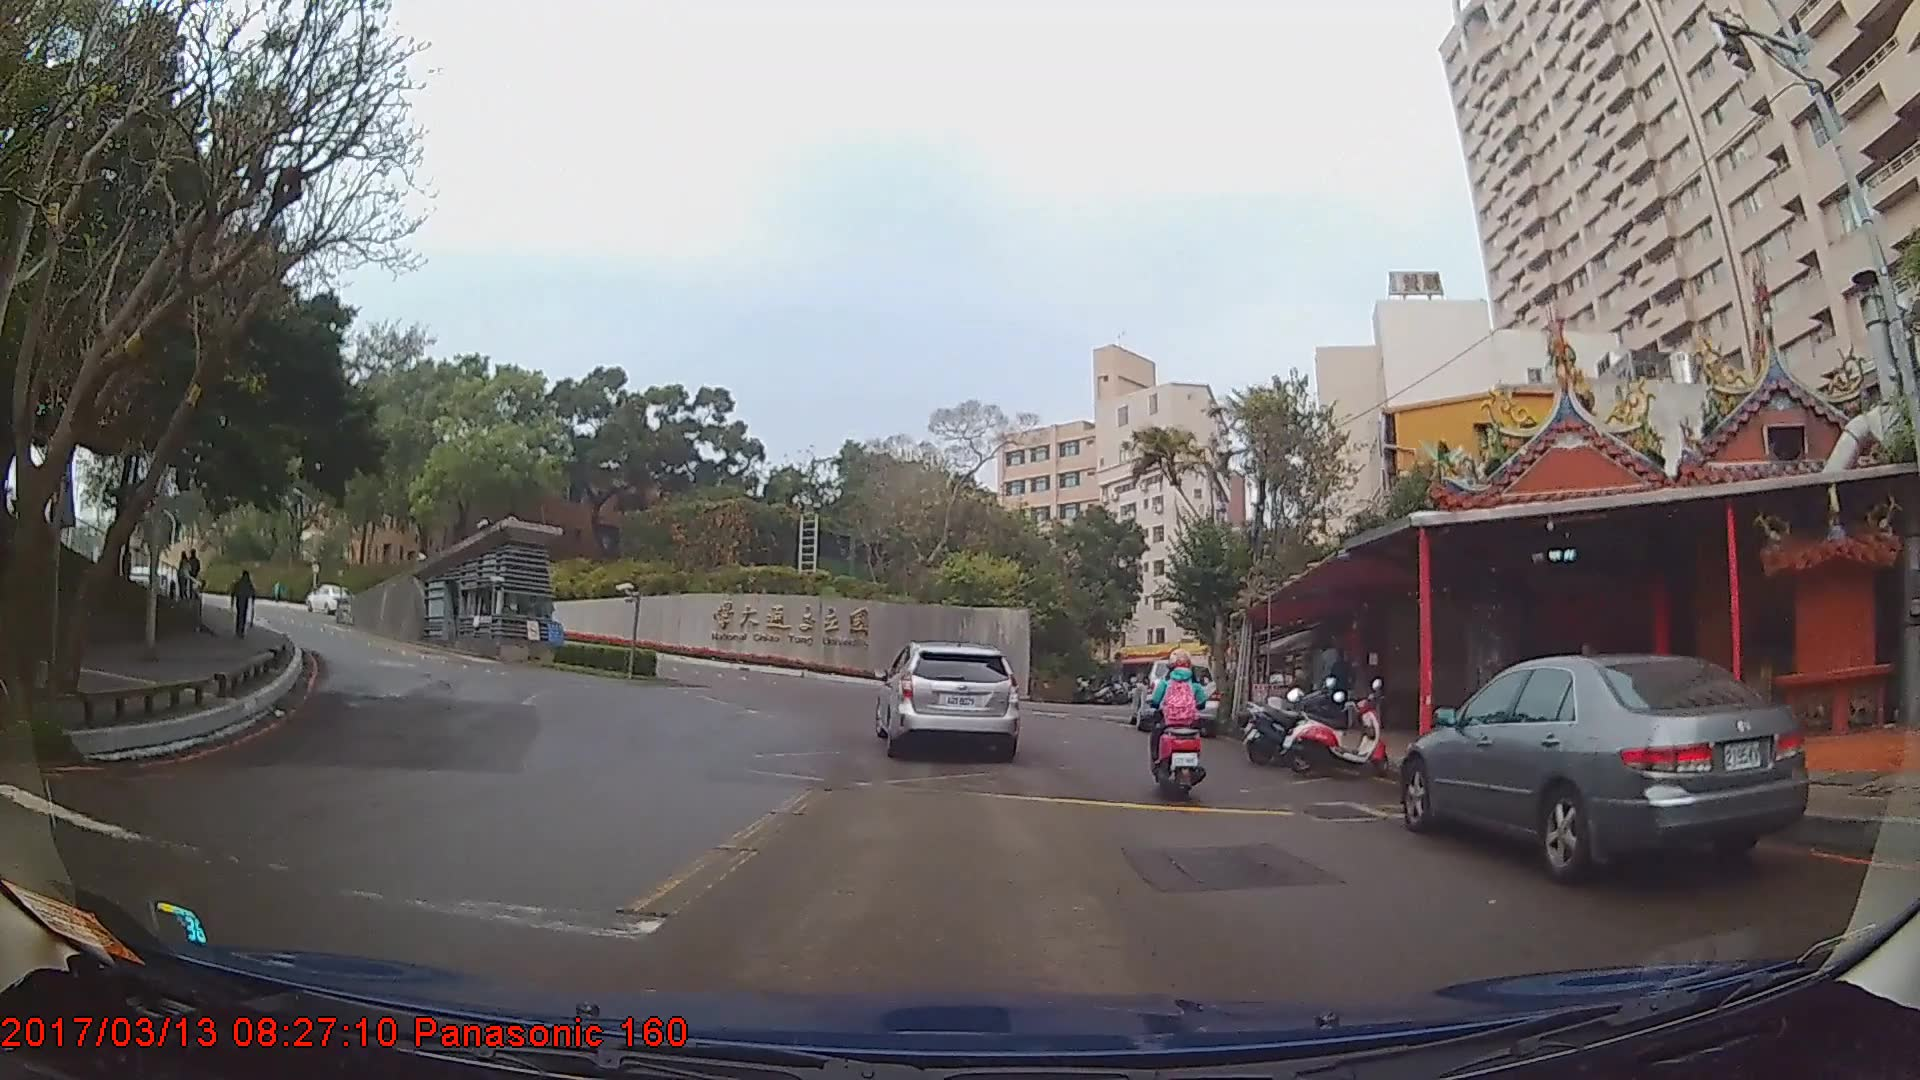pedestrian: (1328, 643, 1360, 735), (231, 569, 259, 637), (175, 549, 195, 606), (186, 548, 206, 604)
rider: (1143, 652, 1216, 811)
vehicle: (1400, 655, 1809, 887), (871, 638, 1017, 759), (1130, 655, 1221, 735), (305, 582, 354, 611)
